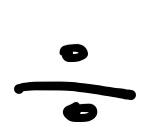div: (14, 44, 136, 123)
